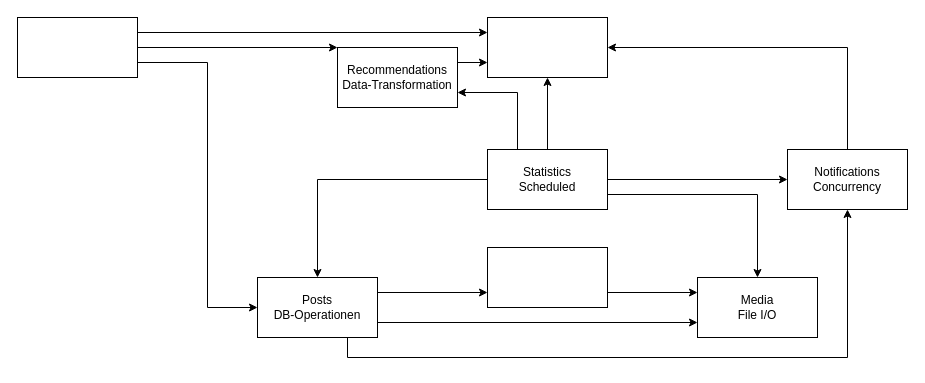
This 925x383 diagram has some shape labels left out. The centre of each missing label's shape, as x and y in pixels:
"API-Gateway" belongs at [77,47].
"Bilder Downgrader Burst/One Time TODO/Function" belongs at [547,277].
"Users DB-Operationen" belongs at [547,47].
